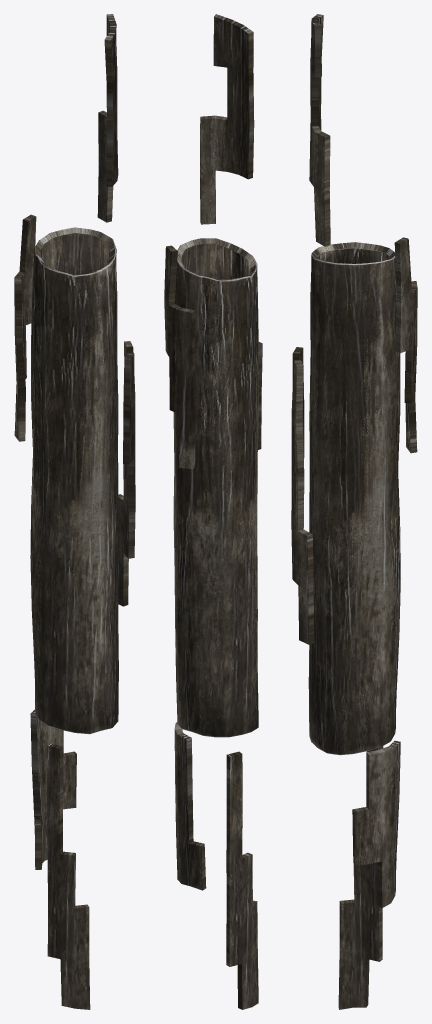
The model's file is souche.FBX.
3 views of the same model, side by side, from view 1: azimuth 90°, elevation 25°; view 2: azimuth 150°, elevation 25°; view 3: azimuth 270°, elevation 25° (orthographic). The views are drawn at different scales.
Parts seen in each view (by area): view 1: bark_low; view 2: bark_low; view 3: bark_low.
Boxes of the visible parts, x1,y1,x2,y2 form: bark_low: (14, 14, 135, 1009); bark_low: (164, 14, 262, 1009); bark_low: (291, 14, 417, 1009).
Size of the model in its own units: 26.72 by 330 by 37.46.
Materials: 1 (1 with a texture image).
